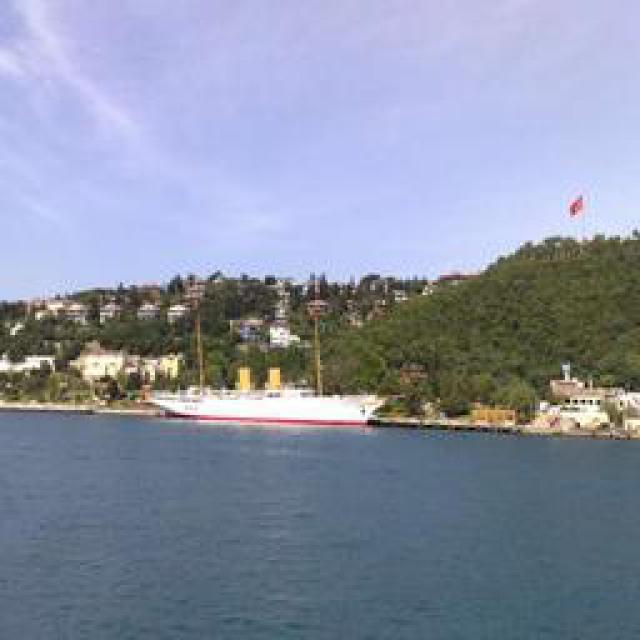Ship: (147, 363, 406, 434)
